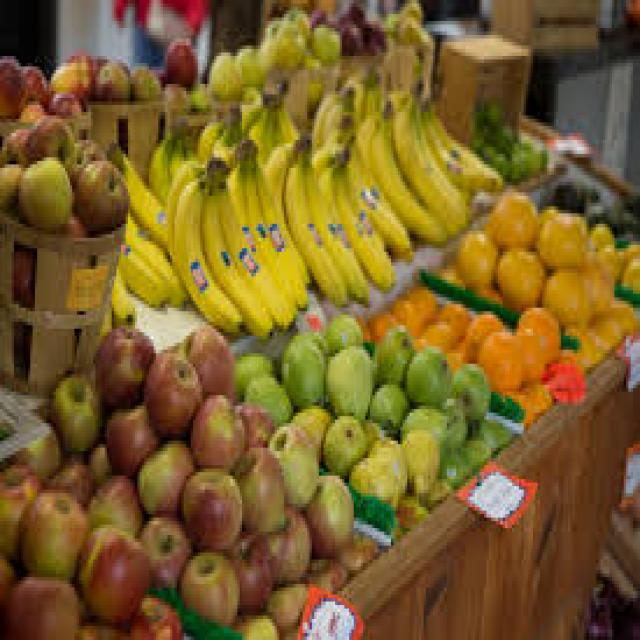biodegradable: (261, 133, 345, 297), (354, 84, 440, 231), (203, 168, 273, 332), (216, 175, 291, 325), (340, 101, 414, 252), (238, 154, 308, 308), (391, 95, 468, 228), (175, 172, 238, 333), (307, 136, 368, 301), (419, 87, 503, 196), (335, 143, 393, 287), (74, 521, 149, 619), (116, 220, 184, 308), (16, 490, 86, 574), (91, 322, 154, 413), (112, 143, 168, 245), (5, 567, 82, 637), (142, 346, 202, 434), (179, 465, 240, 549), (186, 388, 242, 469), (135, 437, 191, 518), (179, 546, 235, 626), (47, 367, 100, 451), (70, 154, 128, 227), (231, 444, 280, 528), (105, 399, 156, 479), (242, 84, 303, 150), (303, 472, 352, 553), (138, 514, 189, 591), (263, 420, 312, 500), (179, 322, 233, 392), (226, 528, 272, 609), (324, 339, 370, 416), (0, 462, 37, 556), (7, 413, 58, 479), (261, 504, 307, 577), (147, 126, 193, 199), (23, 154, 70, 224), (540, 259, 589, 325), (587, 570, 638, 633), (282, 329, 326, 402), (310, 80, 356, 147), (84, 472, 135, 532), (535, 207, 589, 263), (494, 245, 545, 304), (396, 423, 435, 500), (319, 409, 363, 476), (484, 193, 535, 249), (403, 343, 447, 406), (126, 588, 179, 637), (349, 455, 393, 514), (370, 325, 412, 385), (203, 101, 245, 161), (26, 115, 72, 168), (479, 325, 519, 385), (450, 357, 487, 420), (370, 434, 407, 497), (517, 304, 559, 357), (231, 350, 273, 402), (457, 224, 494, 283), (463, 308, 500, 364), (52, 42, 89, 98), (47, 455, 89, 504), (263, 581, 307, 626), (386, 0, 430, 45), (242, 374, 289, 416), (289, 402, 326, 455), (366, 378, 401, 434), (226, 157, 251, 231), (398, 402, 442, 444), (561, 322, 598, 371), (259, 14, 296, 63), (0, 52, 26, 119), (512, 322, 542, 378), (163, 35, 195, 87), (305, 553, 344, 595), (207, 49, 240, 98), (321, 308, 363, 346), (75, 609, 131, 637), (501, 137, 545, 172), (577, 308, 617, 346), (438, 395, 466, 448), (105, 273, 130, 332), (238, 402, 273, 444), (89, 59, 126, 98), (335, 535, 375, 570), (601, 297, 636, 336), (391, 297, 424, 336), (233, 42, 263, 84), (12, 238, 33, 297), (231, 609, 275, 637), (274, 3, 305, 42), (310, 18, 338, 60), (470, 413, 507, 444), (405, 280, 435, 318), (356, 14, 386, 52), (86, 437, 109, 486), (389, 91, 412, 140), (0, 126, 30, 161), (128, 60, 158, 95), (47, 88, 84, 116), (505, 388, 531, 427), (586, 266, 610, 308), (440, 301, 468, 336), (438, 448, 466, 483), (0, 553, 12, 630), (459, 430, 487, 462), (19, 98, 51, 126), (158, 80, 186, 112), (21, 63, 44, 101), (0, 161, 19, 206), (587, 242, 615, 270), (426, 318, 454, 346), (363, 308, 391, 336), (621, 252, 638, 294), (524, 378, 547, 409), (587, 217, 612, 241), (421, 476, 442, 504), (305, 4, 333, 25), (489, 119, 517, 140), (338, 17, 356, 49), (396, 497, 419, 521), (444, 339, 461, 371), (189, 80, 210, 105), (347, 0, 365, 28), (56, 210, 84, 227), (465, 126, 482, 150), (484, 98, 500, 122), (610, 245, 621, 273), (473, 98, 484, 126), (621, 234, 638, 252), (493, 154, 505, 175), (482, 140, 493, 161)
